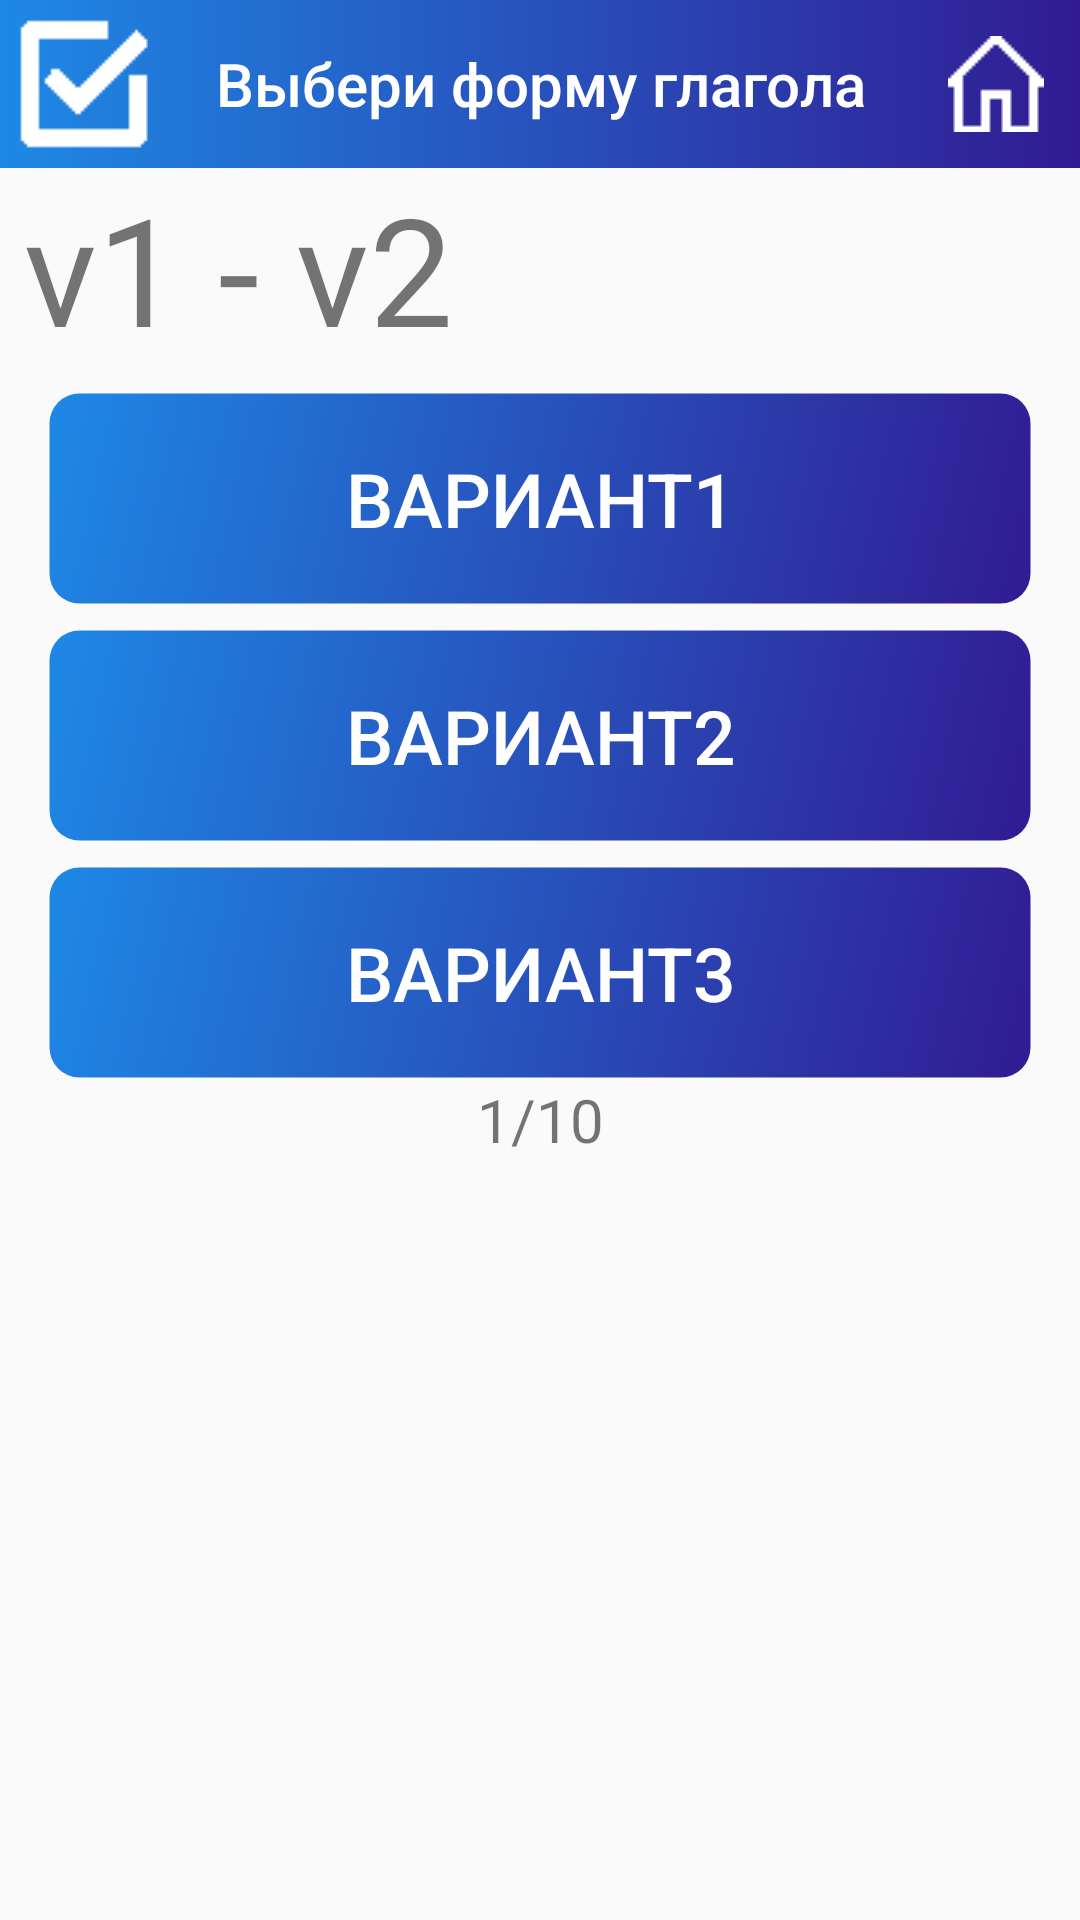

Locate icon controls on the screen. Image size 1080×1920, boxes as (x1, y1, x2, y2).
home: (912, 6, 1044, 162)
